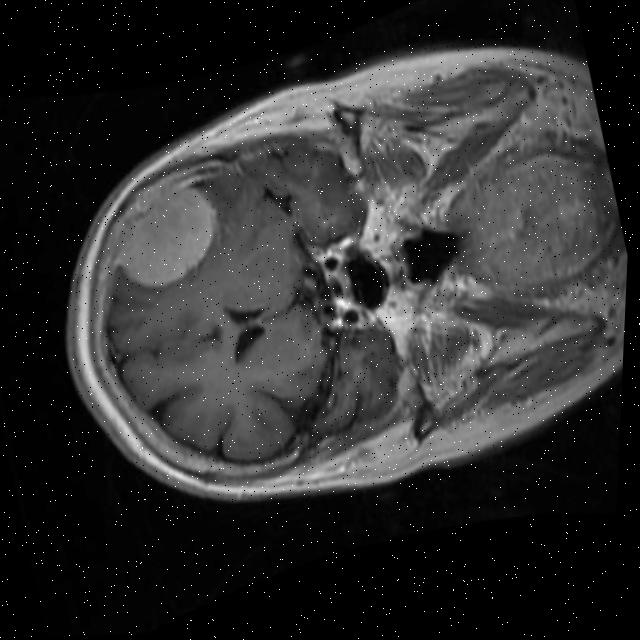Meningioma: (96, 175, 232, 299)
